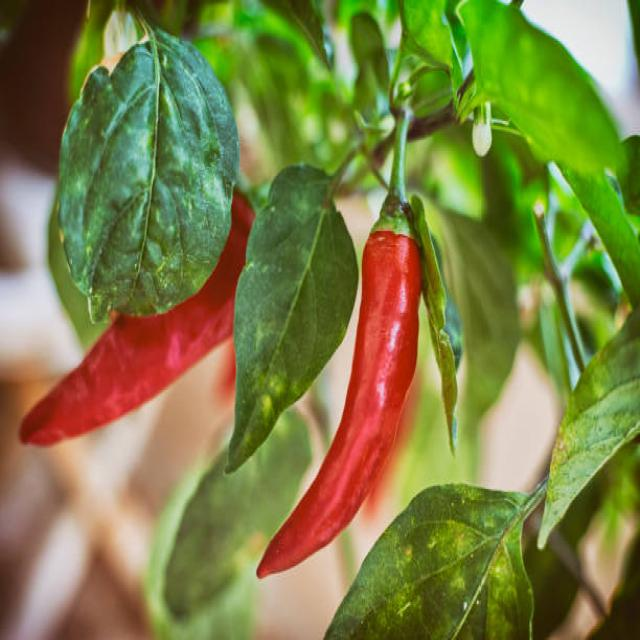chili: (20, 195, 254, 445), (258, 231, 421, 577)
